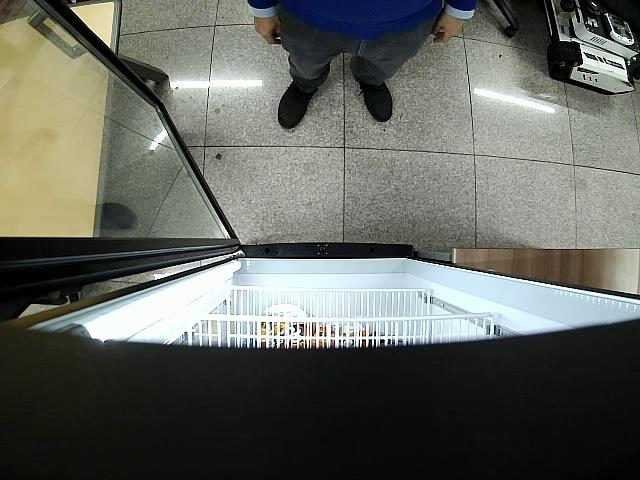00_hand: (432, 12, 466, 43), (254, 16, 284, 45)
